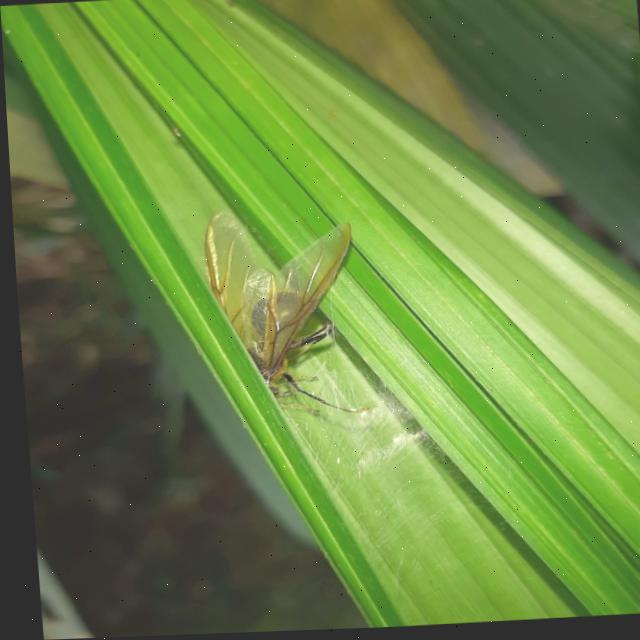Dead-Male-Alate: (198, 206, 366, 421)
